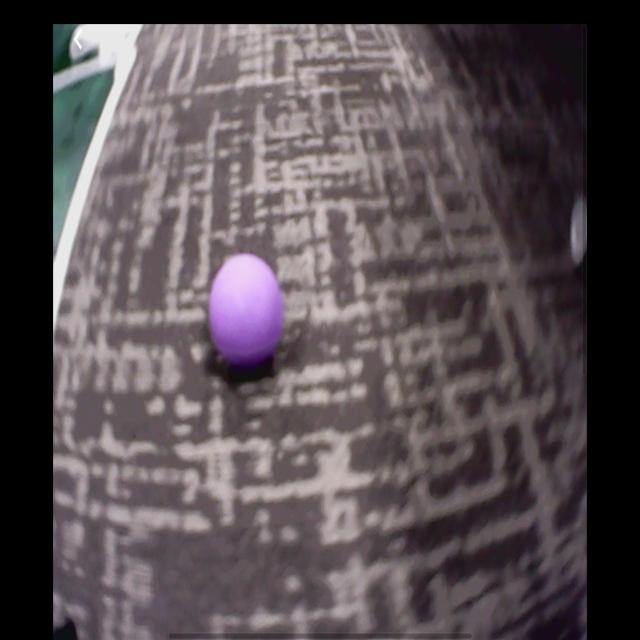ball: (213, 257, 286, 367)
